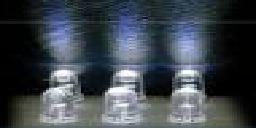LED: (166, 85, 209, 128), (40, 85, 83, 127), (100, 86, 141, 127), (42, 67, 82, 86), (170, 69, 206, 86), (111, 69, 148, 84)
